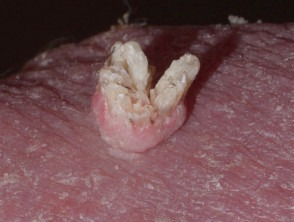Warts: (90, 41, 205, 158)
